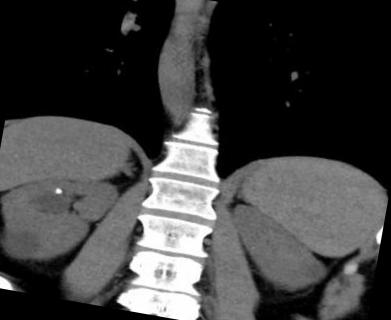Tas_Var: (50, 185, 64, 196)
